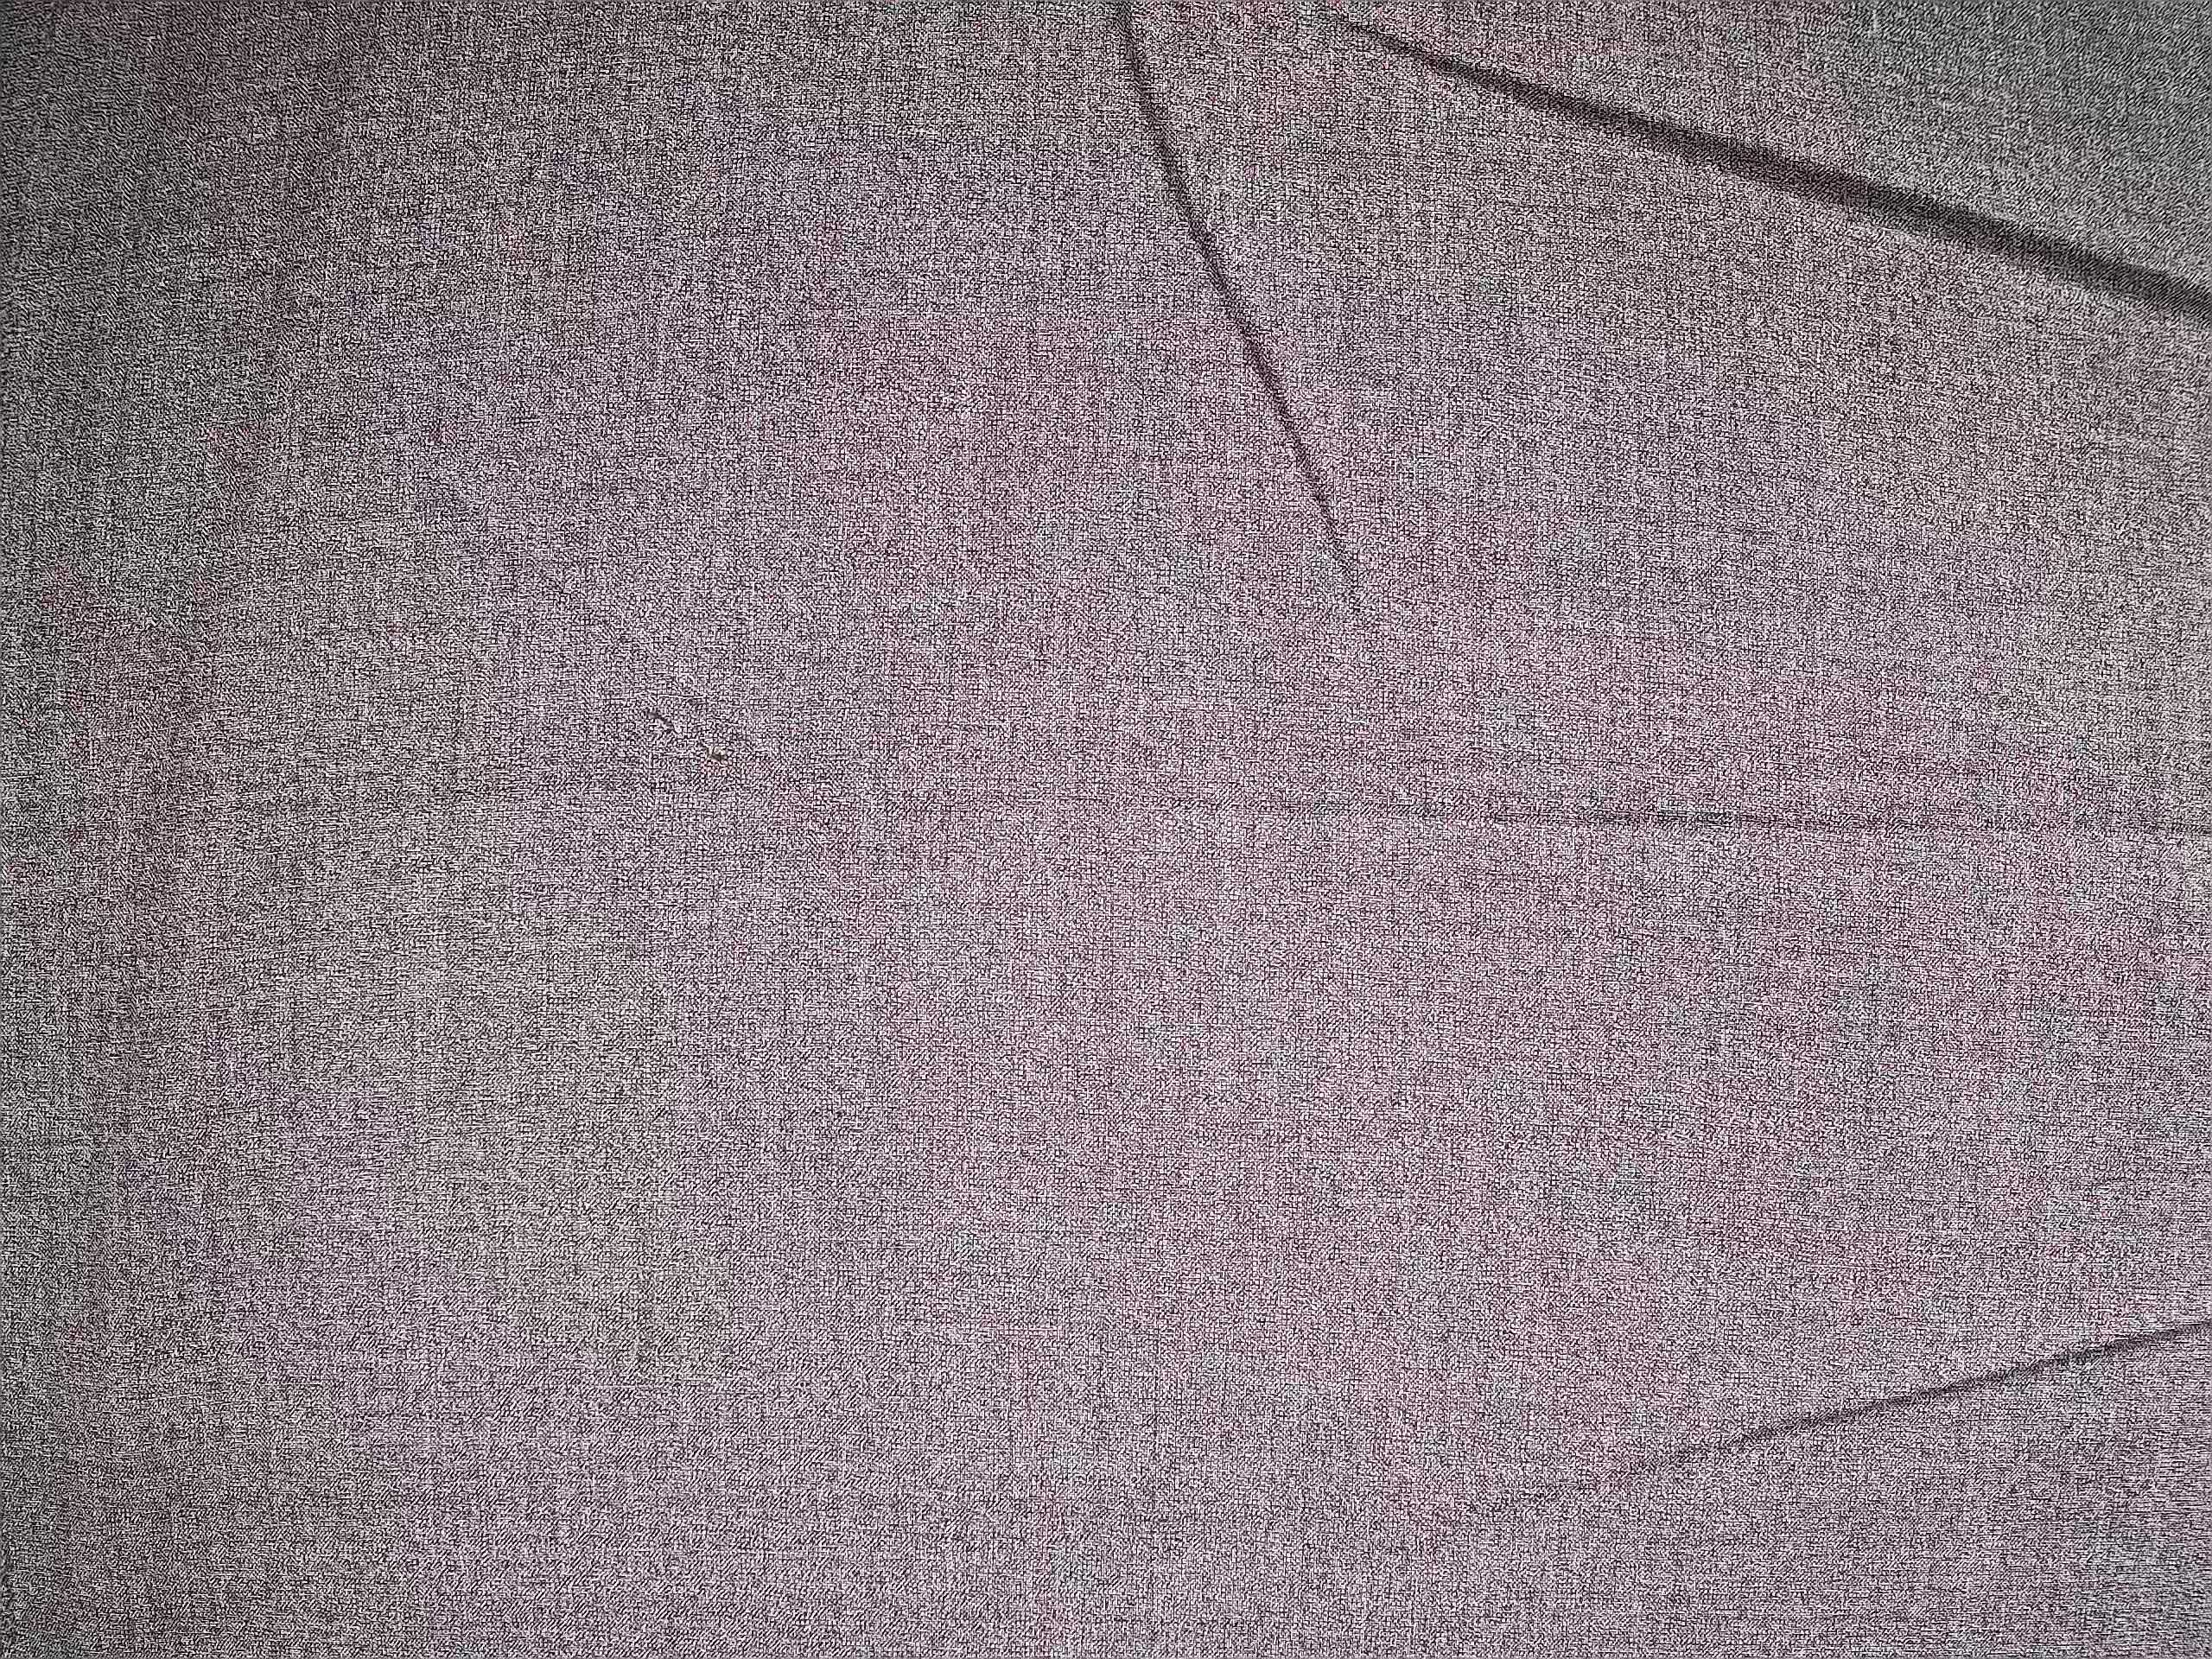rubbing-hole: (606, 671, 806, 826)
